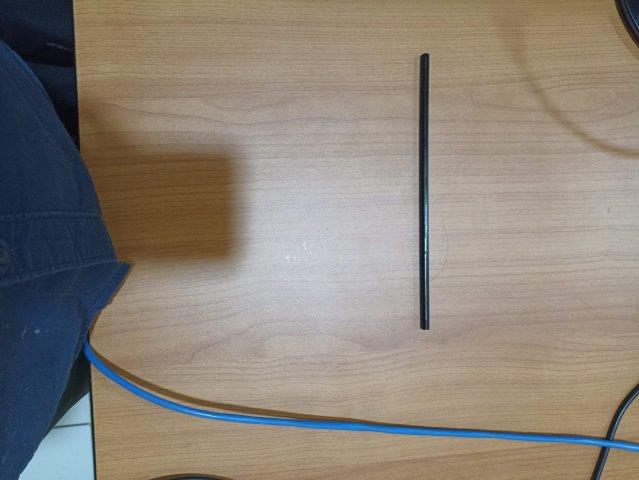sedotan: (419, 53, 430, 330)
